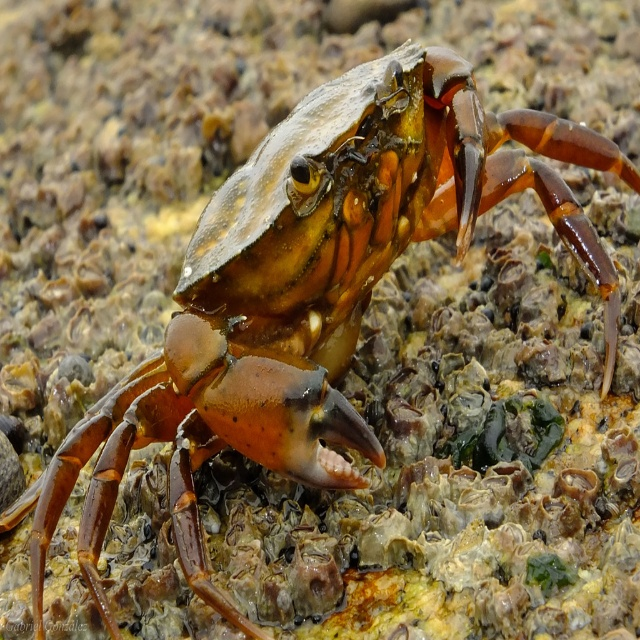Crab: (0, 38, 640, 640)
